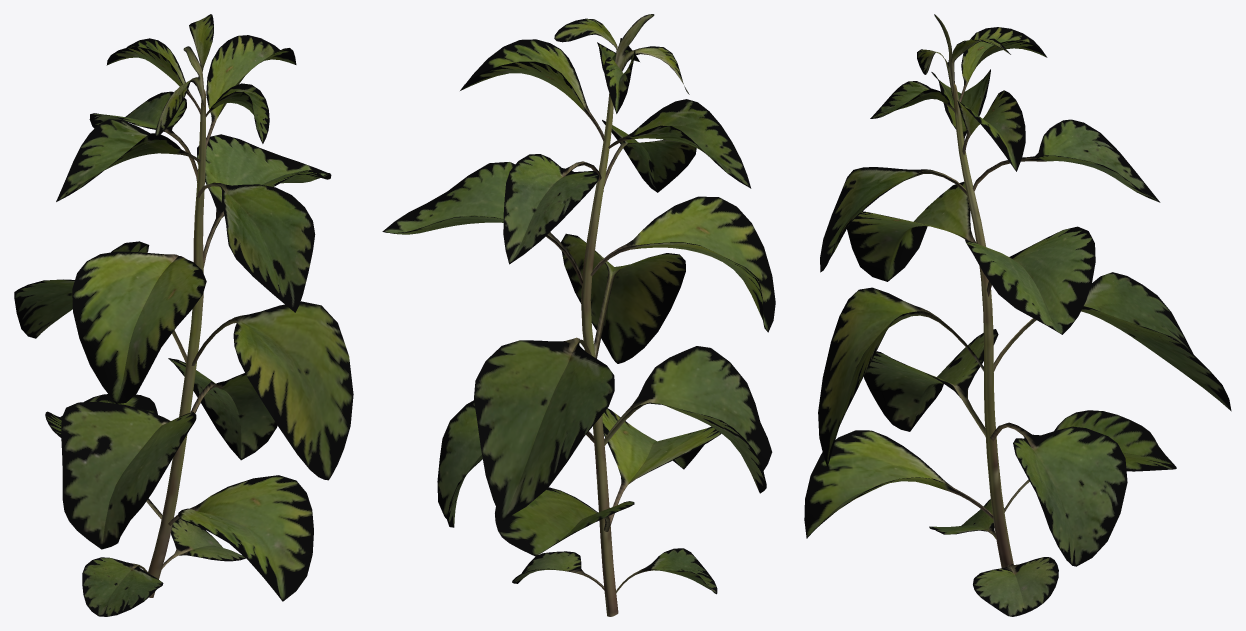
File: nettle_plant.glb
3 views of the same model, side by side, from view 1: azimuth 30°, elevation 25°; view 2: azimuth 150°, elevation 25°; view 3: azimuth 270°, elevation 25° (orthographic).
Parts seen in each view (by area): view 1: nettle_plant; view 2: nettle_plant; view 3: nettle_plant.
Part boxes in pixels (<box>): nettle_plant: <box>14,14,353,616</box>; nettle_plant: <box>382,14,775,616</box>; nettle_plant: <box>804,14,1231,616</box>.
Bounding box in the file's own units: 0.0773 × 0.1315 × 0.0891.
1 material, 1 textured.
